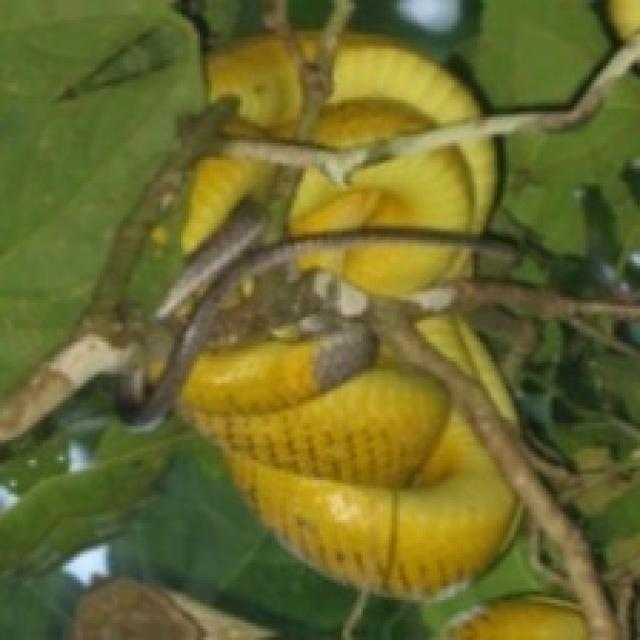red-tailed green ratsnake: (180, 277, 517, 594), (206, 34, 477, 151), (289, 137, 494, 237), (297, 243, 469, 306), (183, 149, 283, 251)
